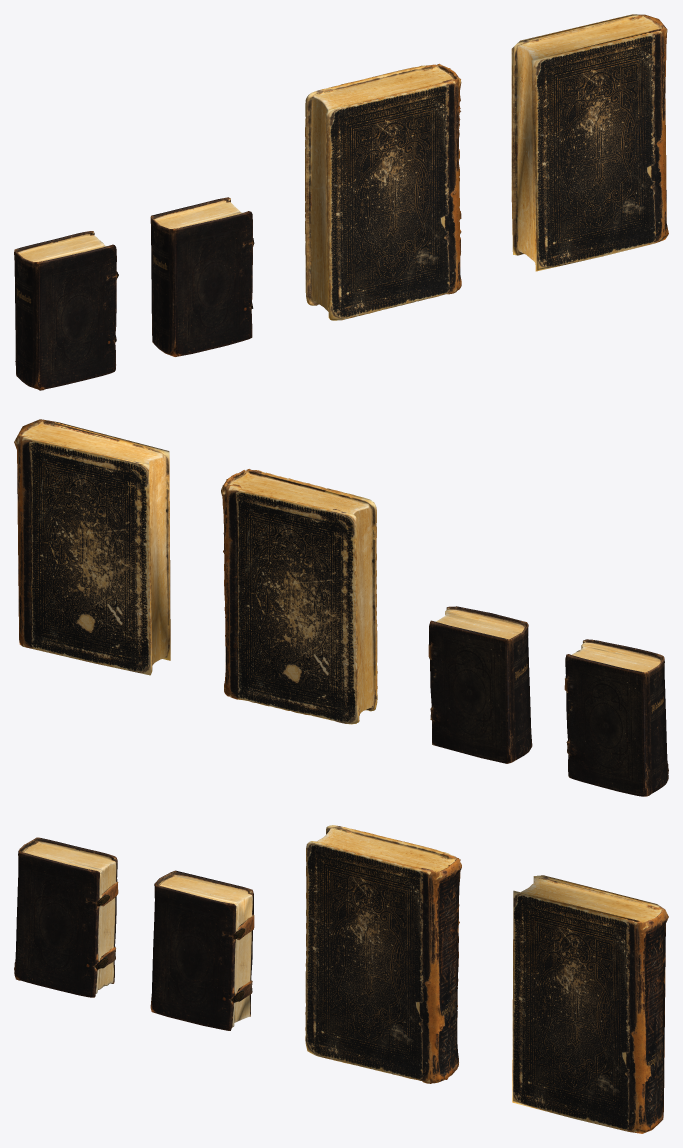
Rendered from old_damaged_books_set_-_sample.glb.
3 views of the same model, one above another, from view 1: azimuth 30°, elevation 25°; view 2: azimuth 150°, elevation 25°; view 3: azimuth 330°, elevation 25° (orthographic).
Visible parts, largest first — view 1: Book_V1_01, SM_Book_V1_01, Book_V5_med, SM_Book_V5_low; view 2: Book_V1_01, SM_Book_V1_01, Book_V5_med, SM_Book_V5_low; view 3: Book_V1_01, SM_Book_V1_01, SM_Book_V5_low, Book_V5_med.
Part boxes in pixels (x1=…): Book_V1_01: x1=305, y1=63, x2=461, y2=320; SM_Book_V1_01: x1=511, y1=14, x2=668, y2=271; Book_V5_med: x1=14, y1=231, x2=118, y2=390; SM_Book_V5_low: x1=150, y1=197, x2=254, y2=356; Book_V1_01: x1=221, y1=469, x2=377, y2=724; SM_Book_V1_01: x1=14, y1=419, x2=170, y2=675; Book_V5_med: x1=564, y1=639, x2=668, y2=796; SM_Book_V5_low: x1=428, y1=606, x2=532, y2=763; Book_V1_01: x1=305, y1=825, x2=461, y2=1083; SM_Book_V1_01: x1=512, y1=875, x2=668, y2=1133; SM_Book_V5_low: x1=150, y1=870, x2=254, y2=1030; Book_V5_med: x1=14, y1=837, x2=118, y2=997.
Size of the model in its own units: 0.5864 by 0.1884 by 0.0438.
Materials: 4 (4 with a texture image).
